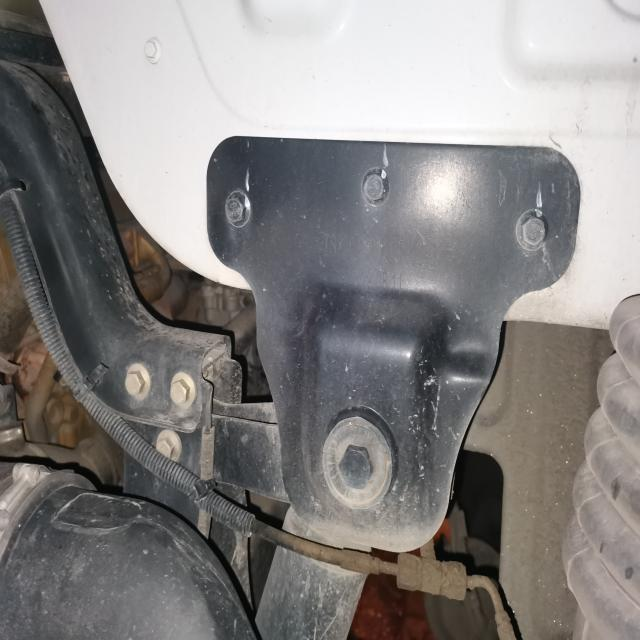blur bolt: (154, 436, 176, 462), (144, 40, 158, 60)
bolt head: (336, 443, 375, 491), (519, 213, 548, 249), (363, 172, 387, 203), (224, 195, 246, 224), (169, 378, 191, 406), (123, 370, 146, 396)
